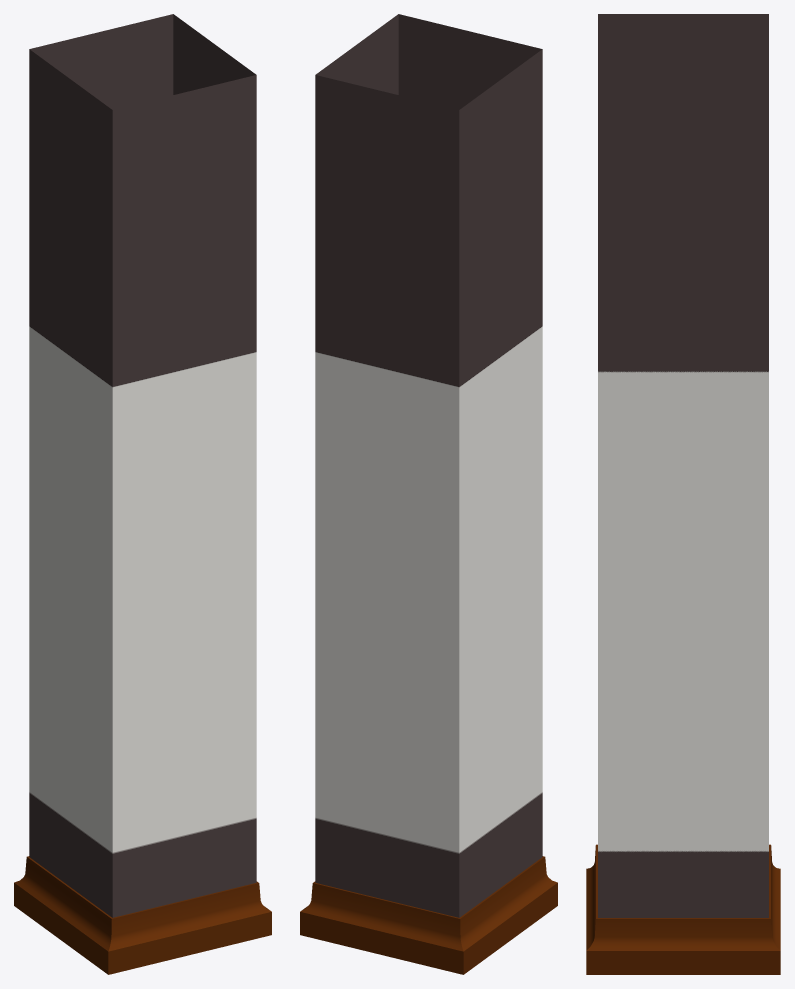
File: RectangularPillar.FBX
3 renders of one model, left to right at view 1: azimuth 30°, elevation 25°; view 2: azimuth 150°, elevation 25°; view 3: azimuth 270°, elevation 25°, orthographic. The views are drawn at different scales.
Visible parts, largest first — view 1: Pillar1; view 2: Pillar1; view 3: Pillar1.
Part boxes in pixels (x1,y1,x2,y2): Pillar1: [14, 14, 271, 974]; Pillar1: [300, 14, 557, 974]; Pillar1: [586, 14, 780, 974].
Bounding box in the file's own units: 81.73 × 410 × 81.73.
